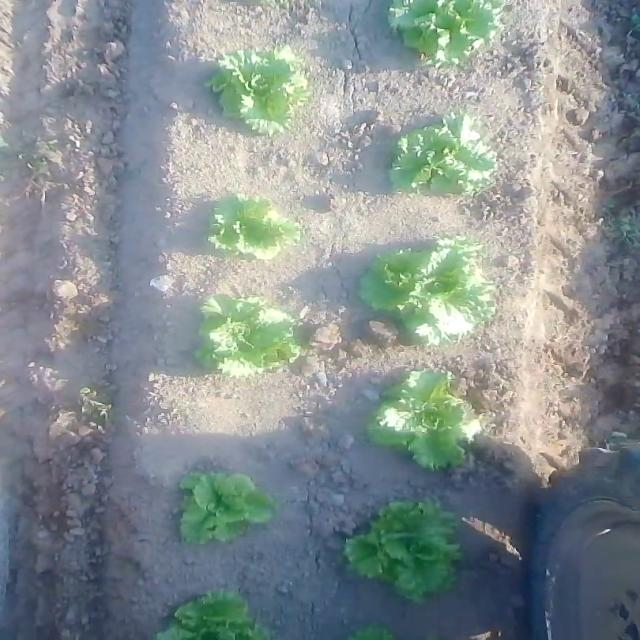Lettuce-Ready-to-Harvest: (359, 238, 494, 344), (341, 498, 465, 600), (365, 368, 483, 470), (386, 114, 496, 199), (198, 293, 301, 377), (173, 469, 276, 546), (208, 194, 303, 258)
